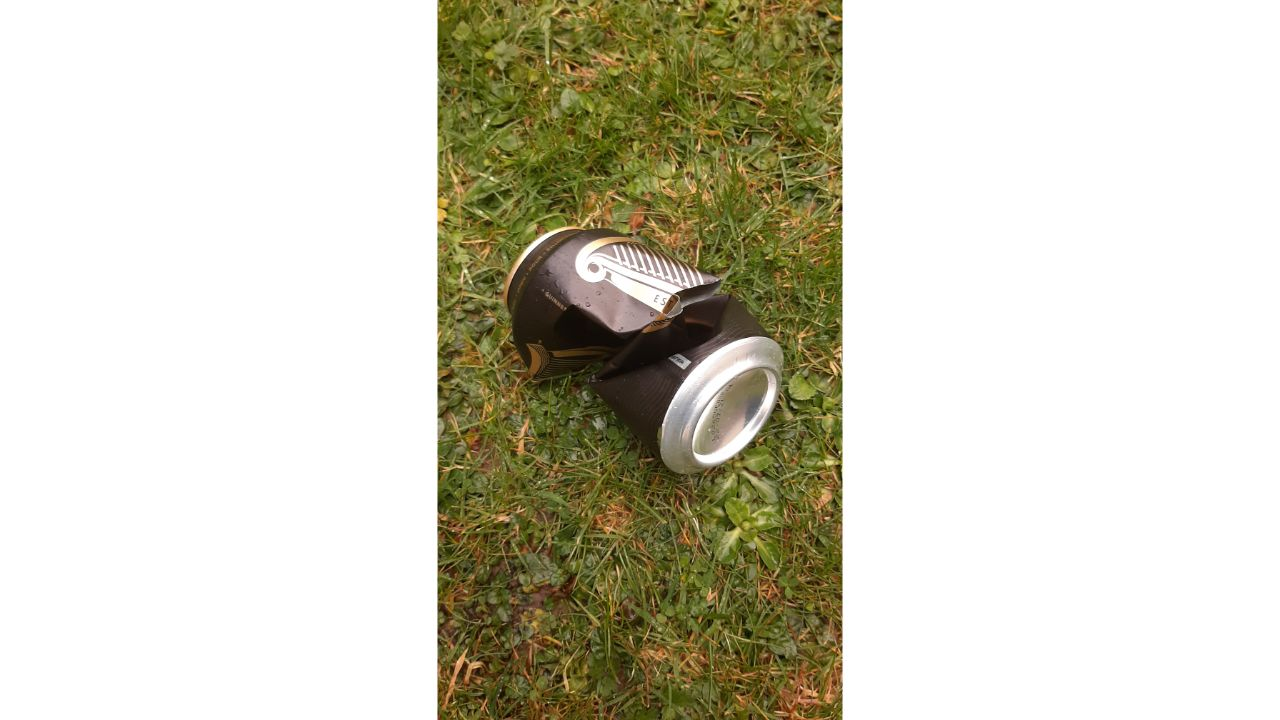Can: (500, 225, 788, 477)
